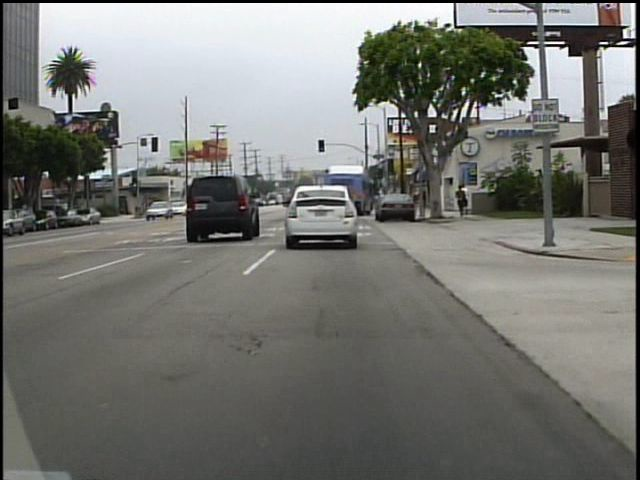person: (454, 185, 468, 223), (462, 183, 472, 216)
